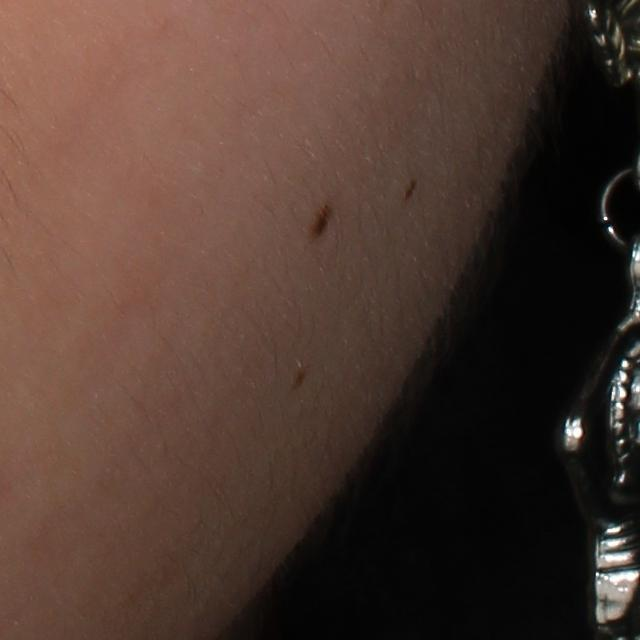nevus: (315, 205, 331, 237)
